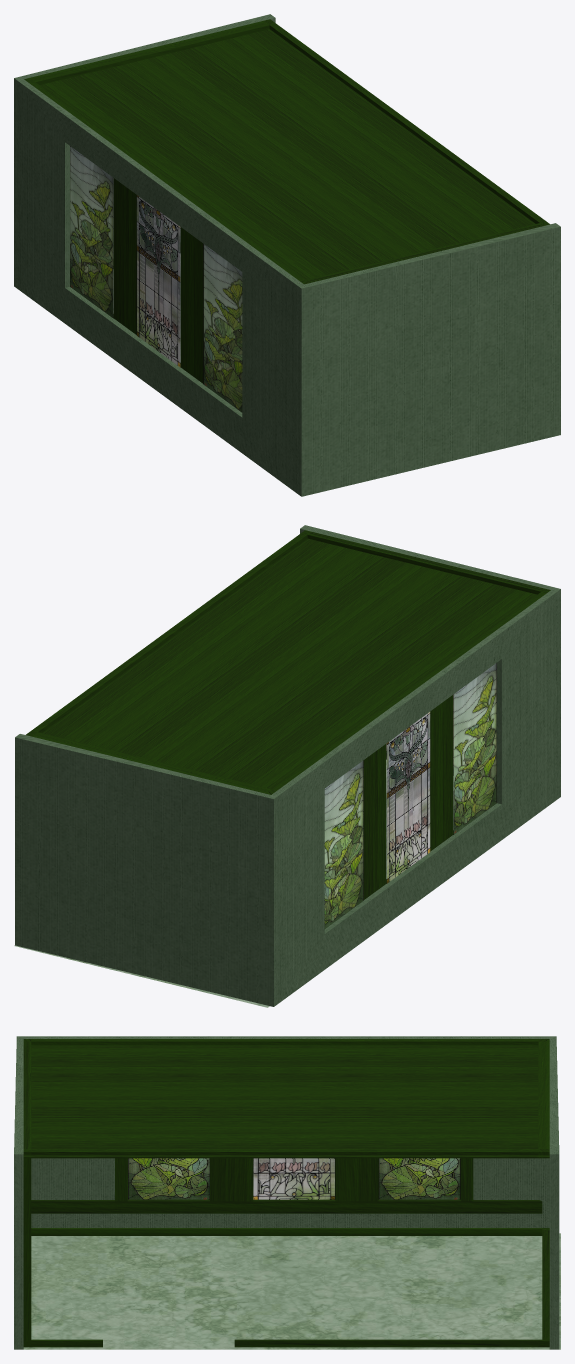
Rendered from Pasillo.fbx.
The picture shows the model from 3 angles, top to bottom: view 1: azimuth 30°, elevation 25°; view 2: azimuth 150°, elevation 25°; view 3: azimuth 270°, elevation 25°; orthographic projection. The views are drawn at different scales.
Visible parts, largest first — view 1: HallwayWall, HalwayCeiling, HallwayBeam, HallwayWindow2, HallwayWindow.001, HallwayWindow; view 2: HallwayWall, HalwayCeiling, HallwayBeam, HallwayWindow2, HallwayWindow, HallwayWindow.001, HallwayFloor; view 3: HallwayFloor, HalwayCeiling, HallwayBeam, HallwayWall, HallwayWindow.001, HallwayWindow2, HallwayWindow.
Part boxes in pixels (<box>): HallwayWall: <box>14,14,560,496</box>; HalwayCeiling: <box>40,29,535,279</box>; HallwayBeam: <box>24,19,549,383</box>; HallwayWindow2: <box>136,195,180,367</box>; HallwayWindow.001: <box>70,146,113,318</box>; HallwayWindow: <box>203,244,242,412</box>; HallwayWall: <box>15,525,560,1006</box>; HalwayCeiling: <box>42,538,536,788</box>; HallwayBeam: <box>26,530,550,899</box>; HallwayWindow2: <box>386,712,430,883</box>; HallwayWindow: <box>453,663,496,834</box>; HallwayWindow.001: <box>324,760,363,928</box>; HallwayFloor: <box>14,759,453,1007</box>; HallwayFloor: <box>23,1233,560,1349</box>; HalwayCeiling: <box>23,1045,549,1156</box>; HallwayBeam: <box>23,1039,549,1347</box>; HallwayWall: <box>14,1036,559,1349</box>; HallwayWindow.001: <box>378,1158,460,1199</box>; HallwayWindow2: <box>253,1158,335,1199</box>; HallwayWindow: <box>128,1158,209,1199</box>.
Bounding box in the file's own units: 10041 × 7745 × 19646.
5 materials, 5 textured.
